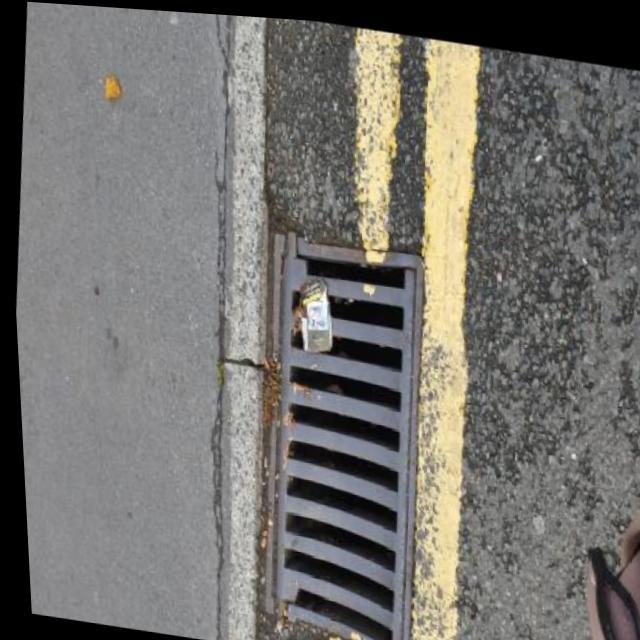cardboard: (294, 273, 339, 355)
